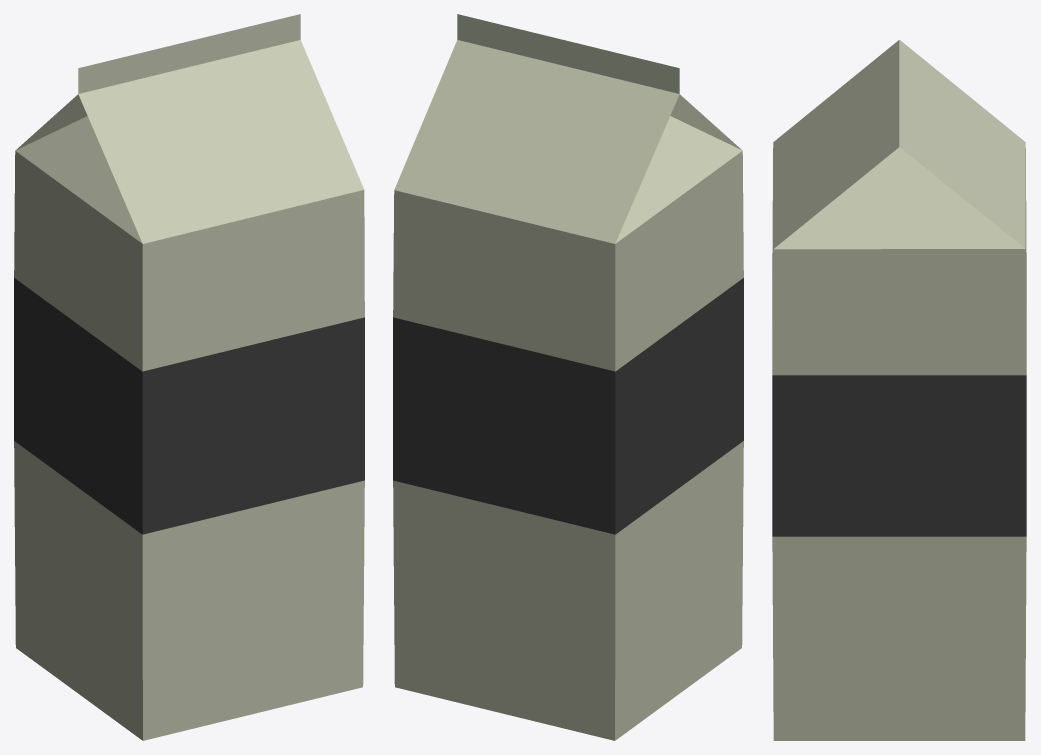
File: carton.gltf
3 views of the same model, side by side, from view 1: azimuth 30°, elevation 25°; view 2: azimuth 150°, elevation 25°; view 3: azimuth 270°, elevation 25° (orthographic).
Visible parts, largest first — view 1: Cube.001; view 2: Cube.001; view 3: Cube.001.
Boxes of the visible parts, x1=… form: Cube.001: x1=14, y1=14, x2=364, y2=740; Cube.001: x1=393, y1=14, x2=743, y2=740; Cube.001: x1=772, y1=40, x2=1026, y2=740.
Bounding box in the file's own units: 0.261 × 0.7026 × 0.261.
